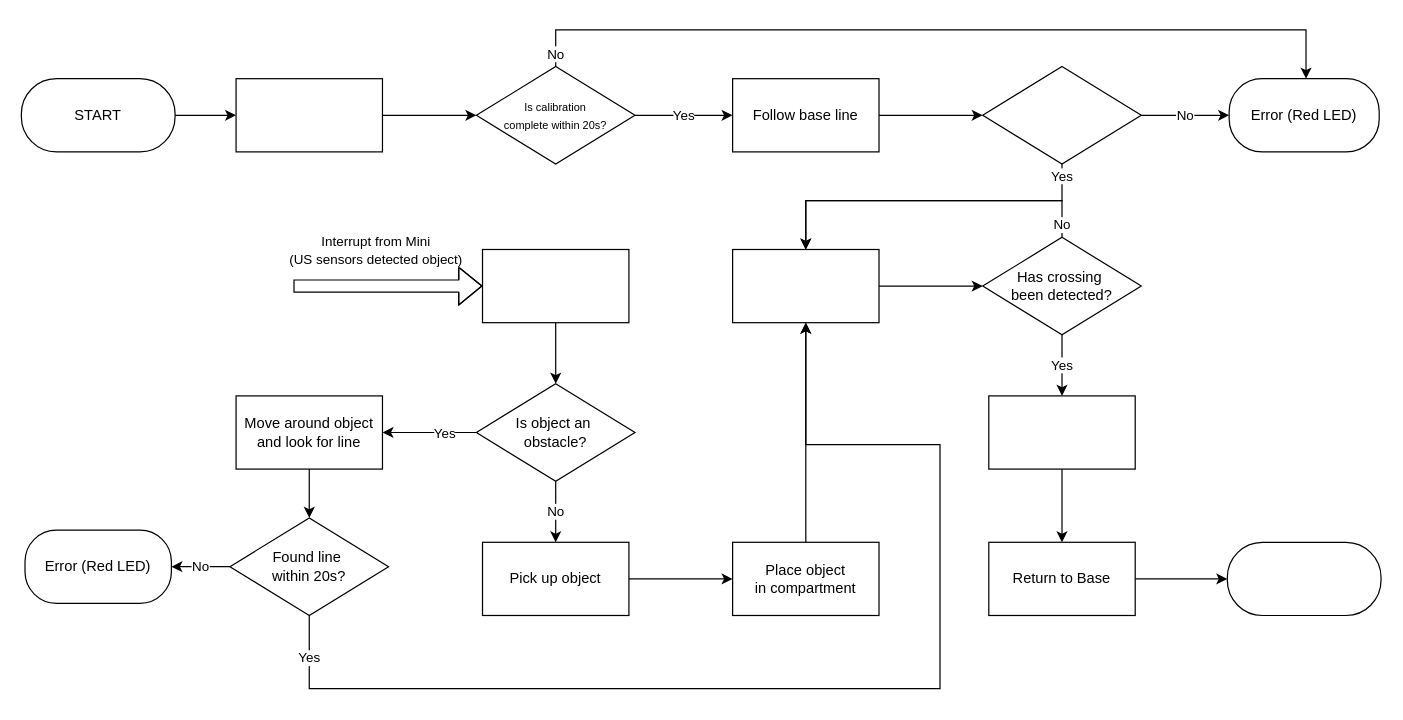
Some shapes in this 1403 by 720 pixel diagram are drawn without their labels. The shapes that lost their labels are listed below. From the top down, each one's box as (x1, y1, x2, y2) in pixels, then its label:
(235, 77, 382, 152): Calibration
(981, 65, 1141, 164): Has start line been found within 20s?
(481, 248, 629, 323): Stop robot movement
(731, 248, 879, 323): Follow main line
(988, 395, 1135, 469): Maneuver to offload point and drop-off objects
(1226, 541, 1381, 615): END
